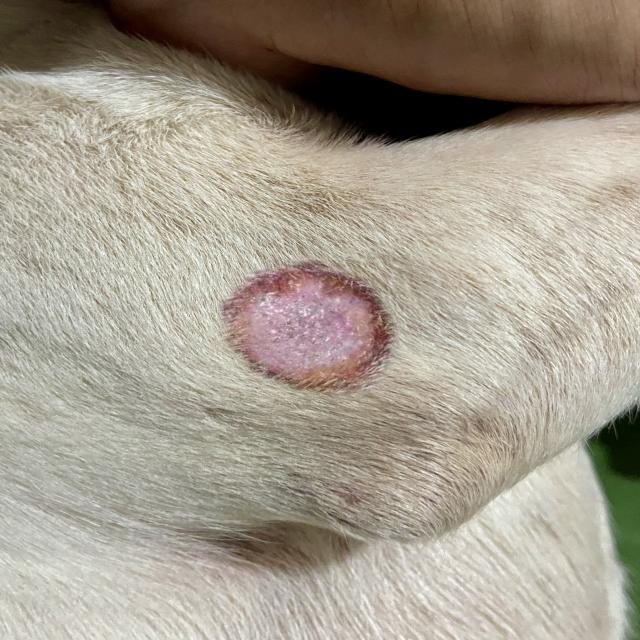ringworm: (196, 250, 418, 411)
